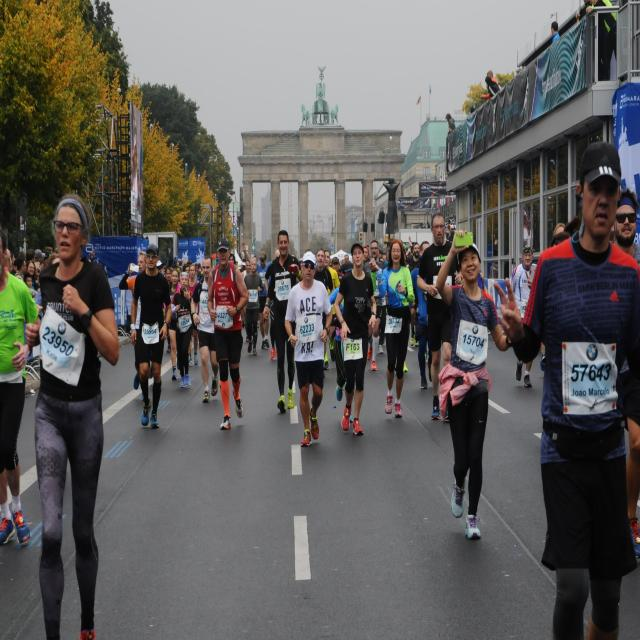Bib: (42, 319, 76, 365), (569, 361, 612, 388), (463, 329, 487, 352), (298, 320, 318, 336), (344, 340, 362, 354), (142, 324, 158, 338), (180, 317, 192, 327), (388, 317, 400, 327), (275, 285, 292, 292), (215, 312, 228, 321), (248, 292, 258, 300)
